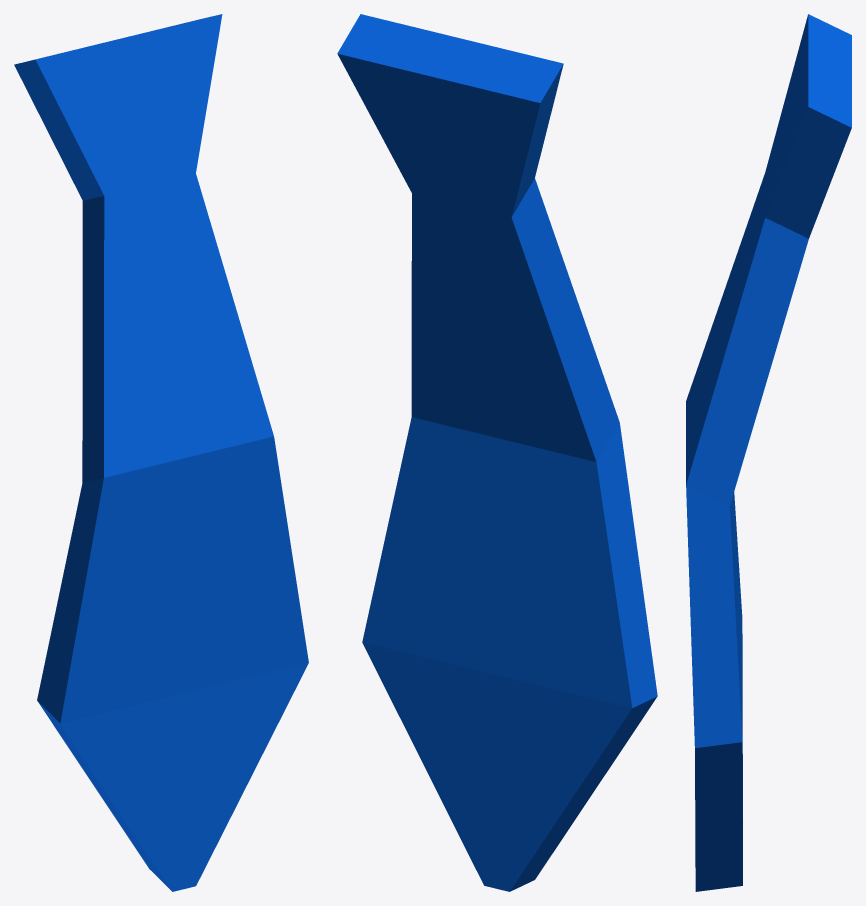
Rendered from Corbata.fbx.
The picture shows the model from 3 angles, left to right: view 1: azimuth 30°, elevation 25°; view 2: azimuth 150°, elevation 25°; view 3: azimuth 270°, elevation 25°; orthographic projection. The views are drawn at different scales.
Visible parts, largest first — view 1: Corbata; view 2: Corbata; view 3: Corbata.
Boxes of the visible parts, x1,y1,x2,y2 form: Corbata: [14, 14, 308, 891]; Corbata: [337, 14, 657, 891]; Corbata: [686, 14, 851, 891].
Bounding box in the file's own units: 10.24 × 31.97 × 5.82.
